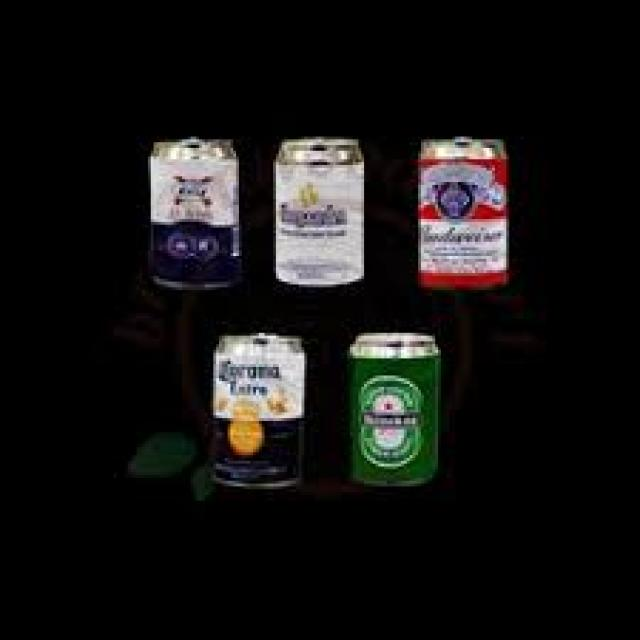Cans: (410, 131, 518, 293), (208, 330, 310, 492), (145, 134, 248, 287), (347, 330, 444, 489), (270, 134, 370, 287)
